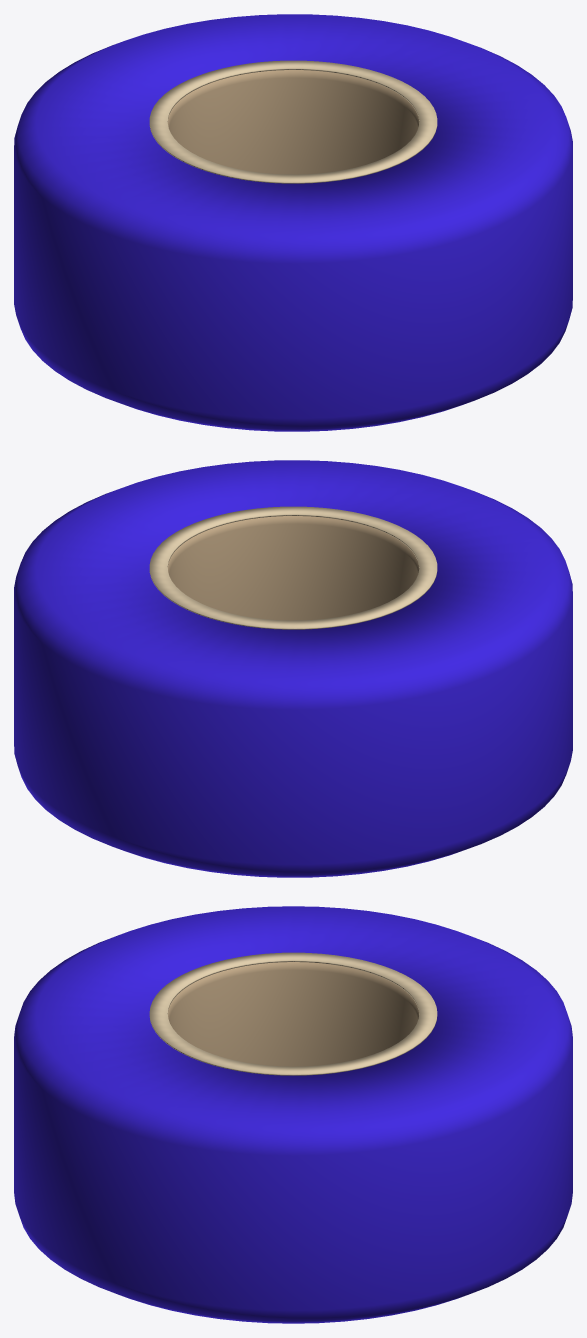
File: EmergencyDuctTape.fbx
3 views of the same model, one above another, from view 1: azimuth 30°, elevation 25°; view 2: azimuth 150°, elevation 25°; view 3: azimuth 270°, elevation 25° (orthographic).
Visible parts, largest first — view 1: BlueTapeRoll, CardboardInnerCore, CardboardRim.001; view 2: BlueTapeRoll, CardboardInnerCore, CardboardRim.001; view 3: BlueTapeRoll, CardboardInnerCore, CardboardRim.001.
Part boxes in pixels (x1,y1,x2,y2): BlueTapeRoll: (14,14,572,431); CardboardInnerCore: (167,70,419,174); CardboardRim.001: (149,60,437,183); BlueTapeRoll: (14,460,572,877); CardboardInnerCore: (167,516,419,620); CardboardRim.001: (149,506,437,629); BlueTapeRoll: (14,906,572,1323); CardboardInnerCore: (168,962,418,1066); CardboardRim.001: (149,952,437,1075).
Size of the model in its own units: 40 by 16.04 by 40.
